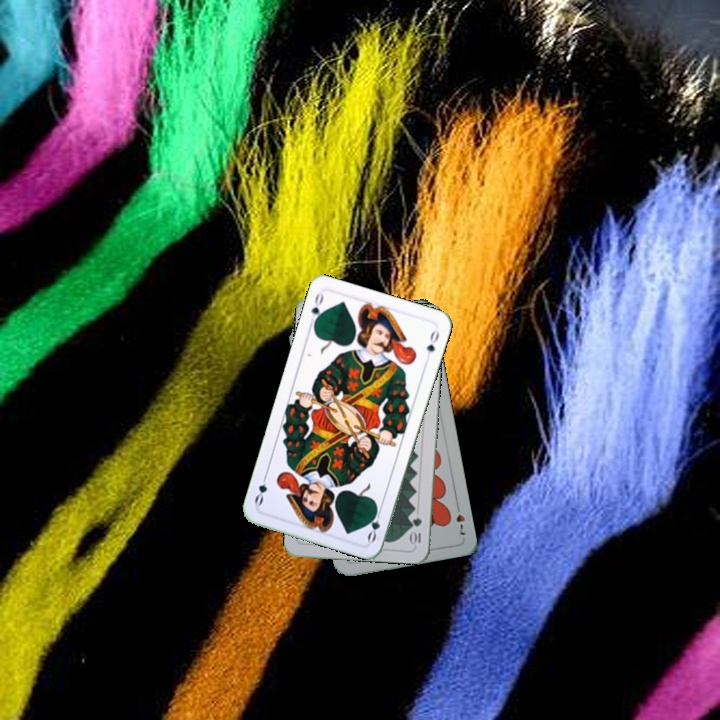G10: (408, 514, 424, 548)
GO: (363, 503, 384, 545), (305, 289, 326, 329)
H7: (452, 499, 468, 538)
